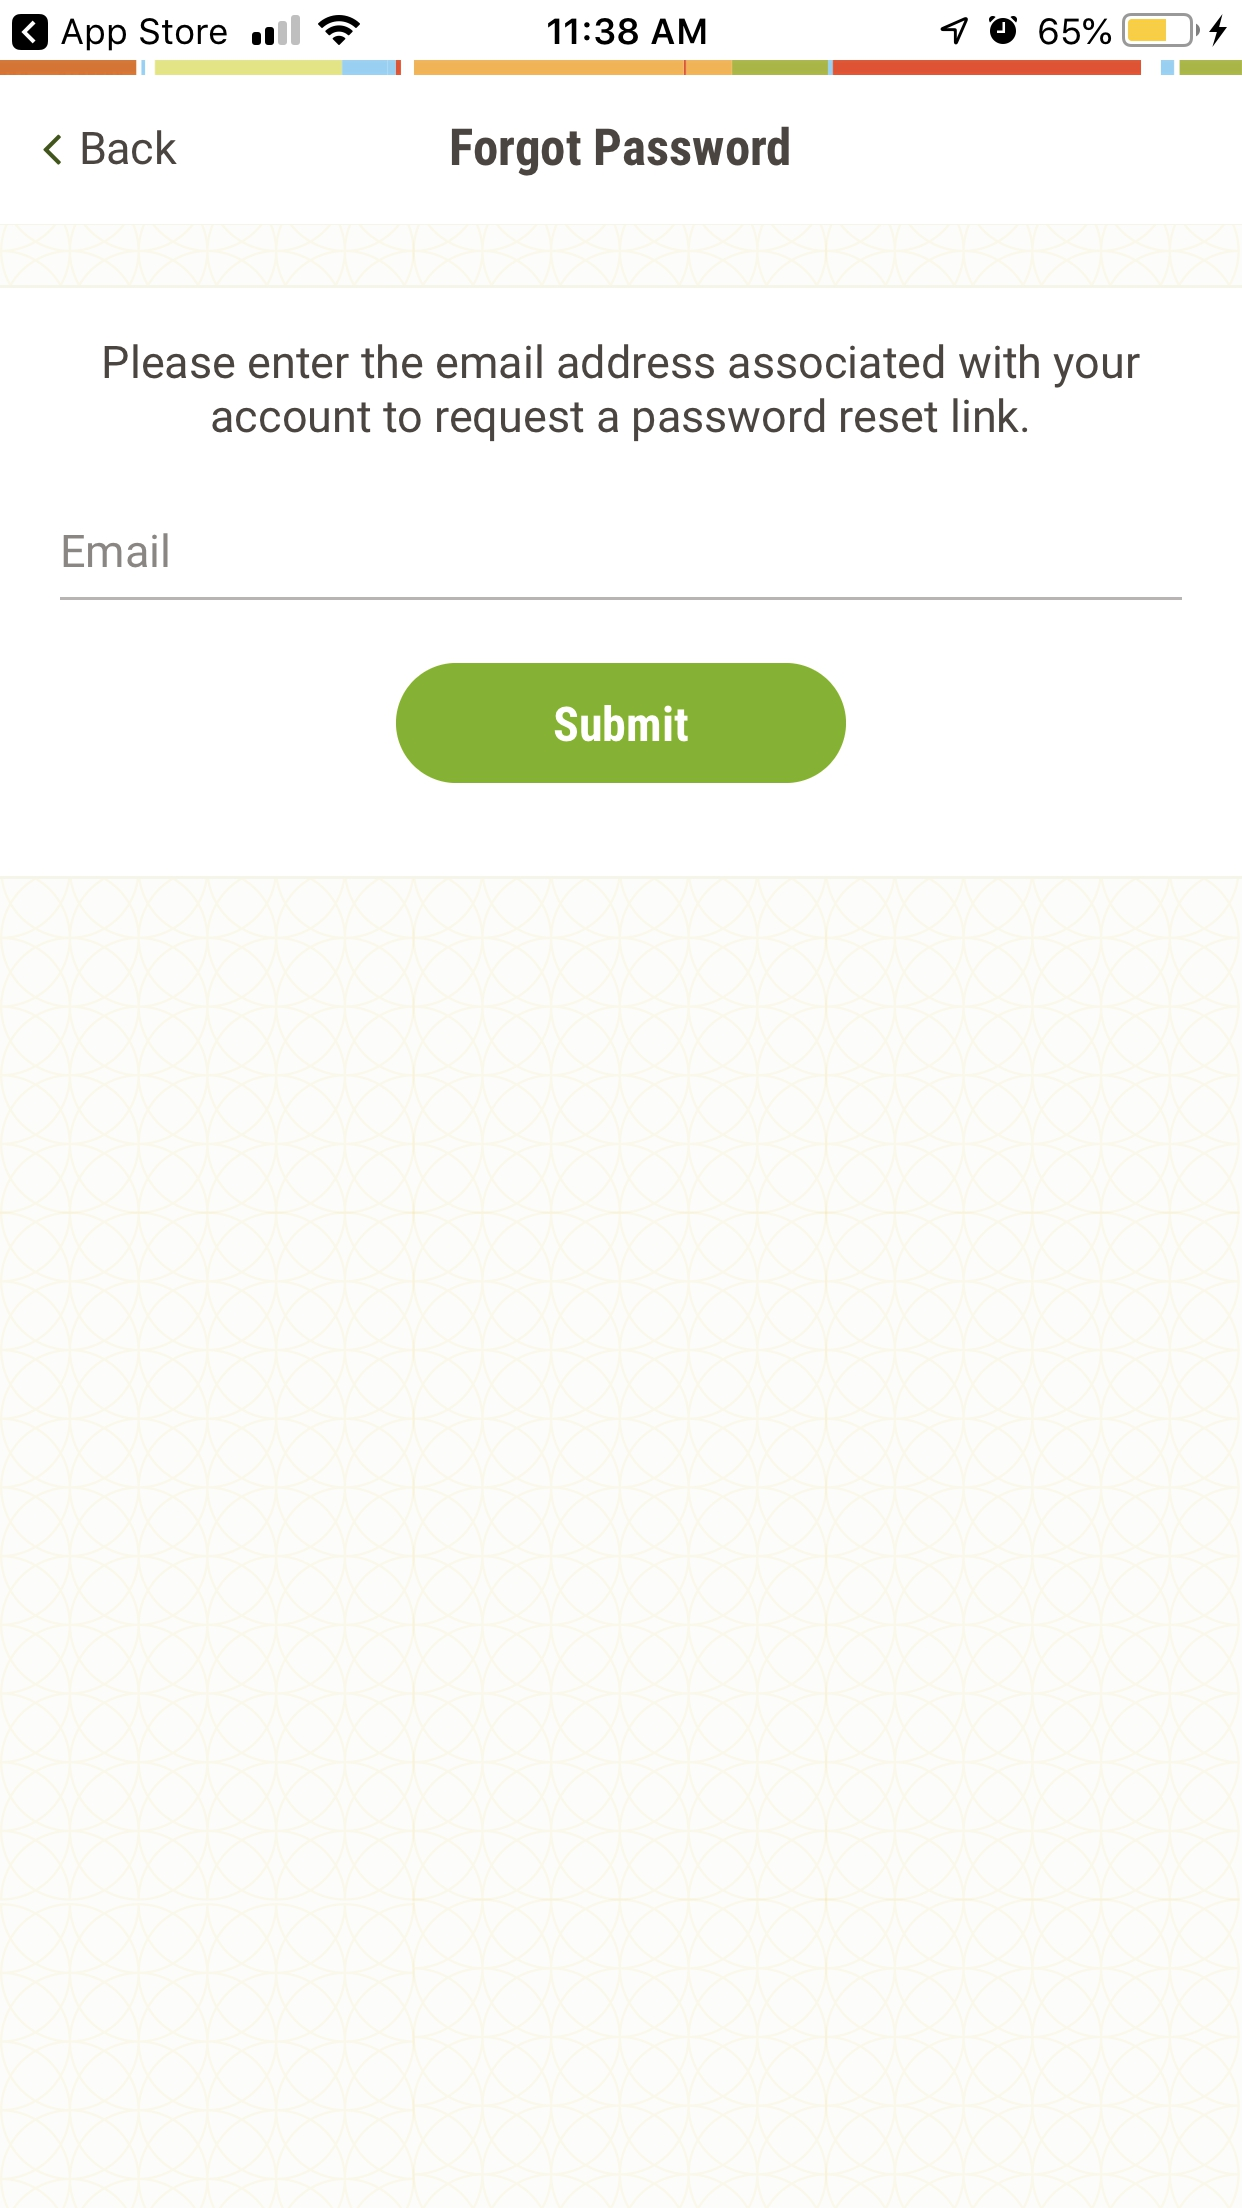EditText: (61, 532, 1183, 602)
Icon: (44, 135, 64, 165)
Text: (105, 344, 1140, 443), (450, 127, 790, 177), (64, 532, 170, 569), (82, 130, 177, 165)
TextButton: (394, 663, 848, 786)
UpperTaskBar: (2, 2, 1242, 53)
